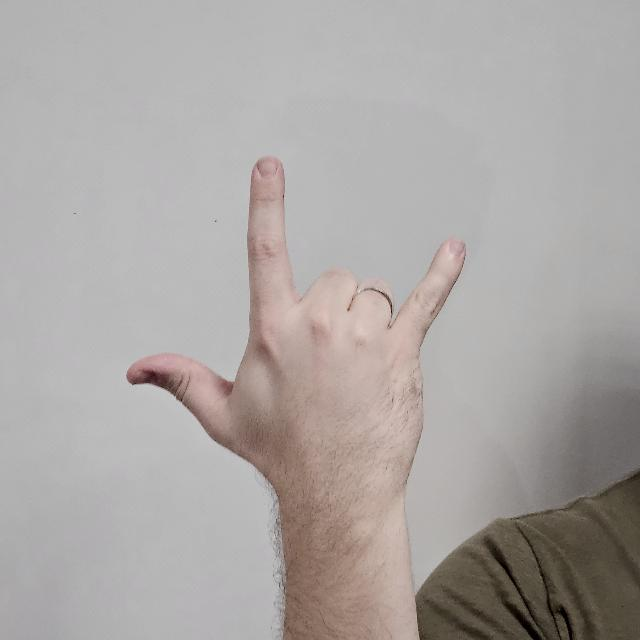Cima: (126, 153, 474, 485)
